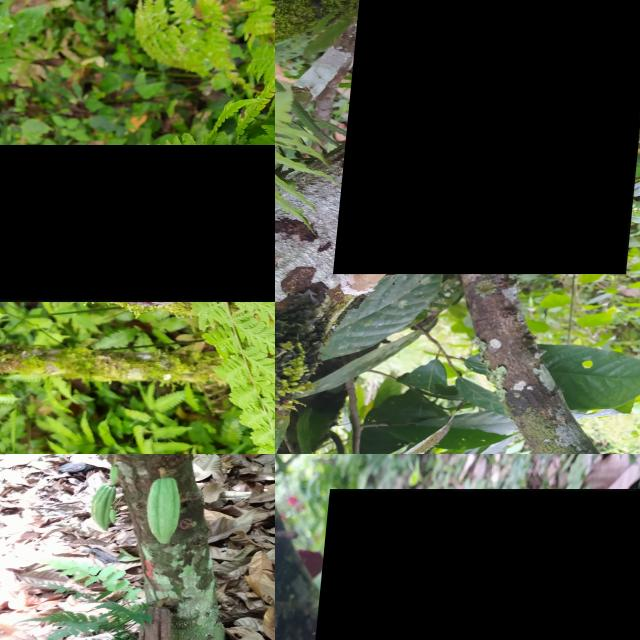Fitoftora: (0, 145, 275, 301), (139, 599, 190, 640)
Monilia: (341, 0, 640, 274), (312, 489, 640, 640)
Sana: (147, 476, 188, 541), (95, 485, 121, 533)
